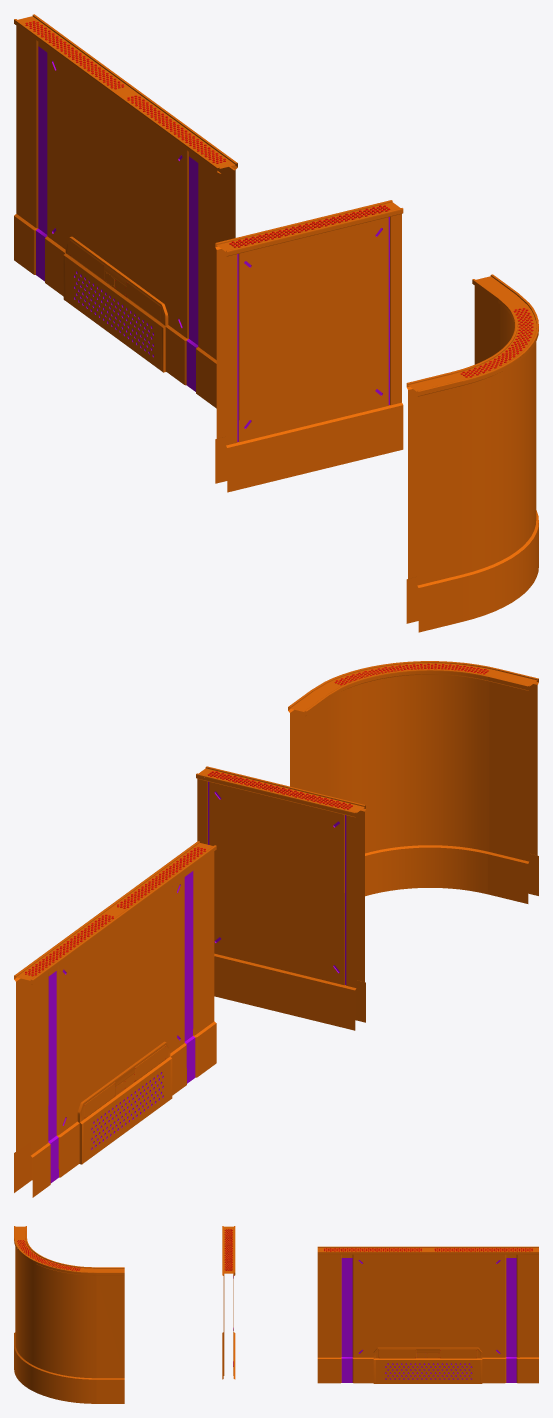
File: Walls_1_Combi_High.FBX
3 renders of one model, top to bottom at view 1: azimuth 30°, elevation 25°; view 2: azimuth 150°, elevation 25°; view 3: azimuth 270°, elevation 25°, orthographic. The views are drawn at different scales.
Parts seen in each view (by area): view 1: Wall_Standard_High, Wall_Mini_High, Wall_Corner_High; view 2: Wall_Corner_High, Wall_Standard_High, Wall_Mini_High; view 3: Wall_Standard_High, Wall_Corner_High, Wall_Mini_High.
Boxes of the visible parts, box(x1,y1,x2,y2) form: Wall_Standard_High: box(14, 14, 237, 408); Wall_Mini_High: box(215, 200, 403, 492); Wall_Corner_High: box(406, 274, 538, 632); Wall_Corner_High: box(288, 661, 538, 903); Wall_Standard_High: box(14, 841, 216, 1197); Wall_Mini_High: box(196, 766, 365, 1030); Wall_Standard_High: box(317, 1246, 538, 1383); Wall_Corner_High: box(14, 1226, 124, 1403); Wall_Mini_High: box(222, 1226, 235, 1379).
Bounding box in the file's own units: 98.44 × 129 × 467.
